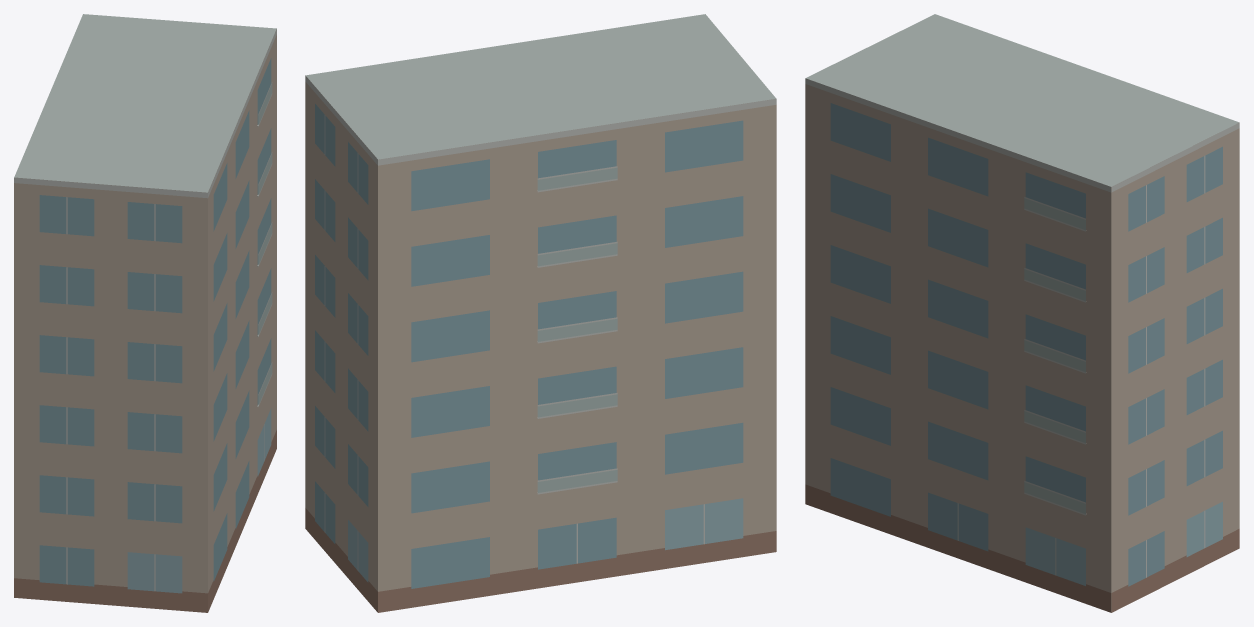
Rendered from survey-upis-32567640.glb.
3 views of the same model, side by side, from view 1: azimuth 30°, elevation 25°; view 2: azimuth 150°, elevation 25°; view 3: azimuth 270°, elevation 25° (orthographic). The views are drawn at different scales.
Parts seen in each view (by area): view 1: survey-upis-32567640.tmp; view 2: survey-upis-32567640.tmp; view 3: survey-upis-32567640.tmp.
Part boxes in pixels (x1,y1,x2,y2): survey-upis-32567640.tmp: (14, 14, 276, 612); survey-upis-32567640.tmp: (305, 14, 776, 612); survey-upis-32567640.tmp: (805, 14, 1239, 612).
Size of the model in its own units: 15.94 by 18.3 by 16.92.
